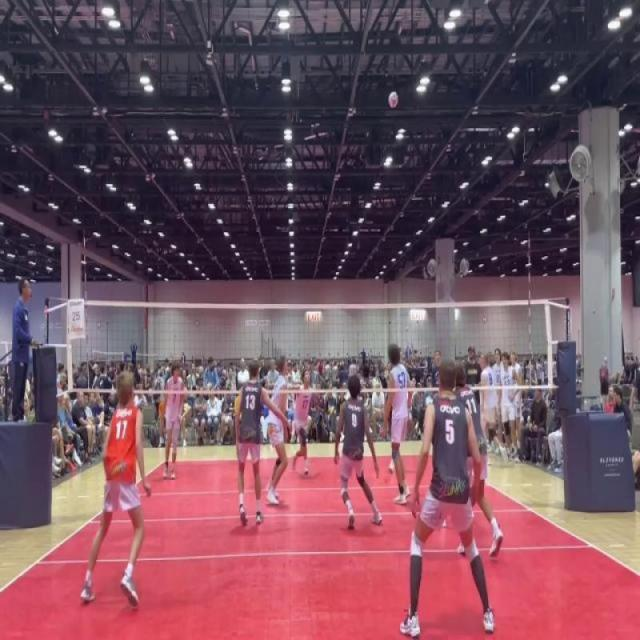volleyball: (387, 88, 399, 110)
